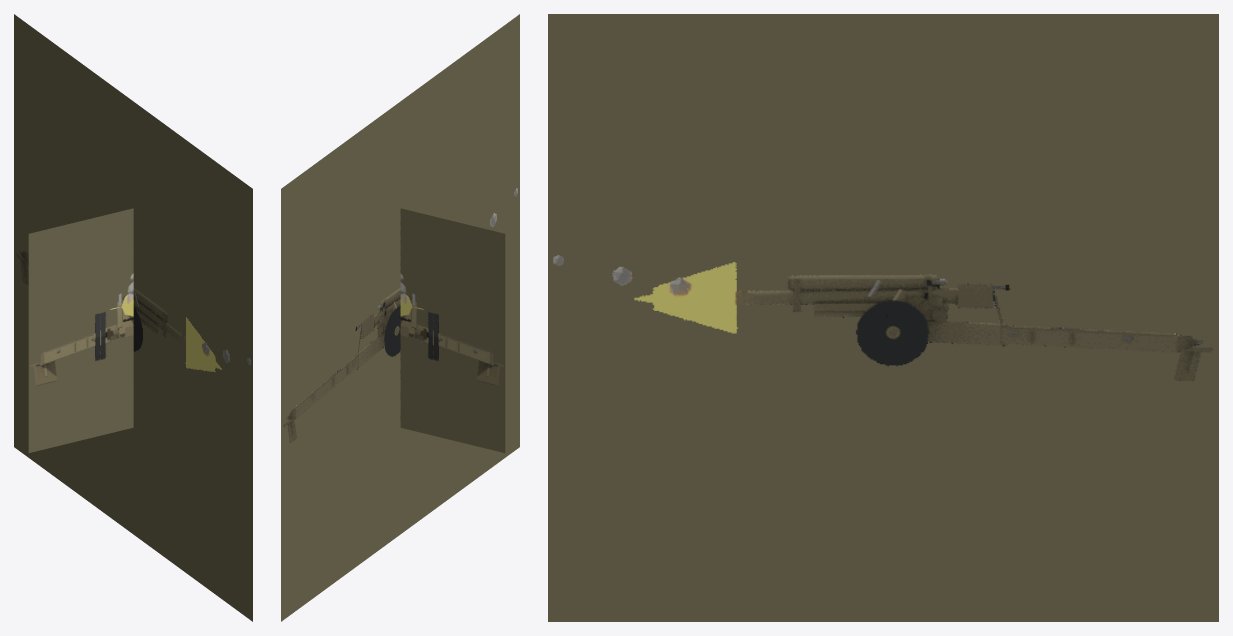
The model's file is sfh18_pjas_web_mobil_bb.glb.
3 renders of one model, left to right at view 1: azimuth 30°, elevation 25°; view 2: azimuth 150°, elevation 25°; view 3: azimuth 270°, elevation 25°, orthographic. The views are drawn at different scales.
Visible parts, largest first — view 1: sfh18_pjas_web_mobil_bb; view 2: sfh18_pjas_web_mobil_bb; view 3: sfh18_pjas_web_mobil_bb.
Boxes of the visible parts, <box> form: sfh18_pjas_web_mobil_bb: <box>14,14,252,621</box>; sfh18_pjas_web_mobil_bb: <box>281,14,519,621</box>; sfh18_pjas_web_mobil_bb: <box>548,14,1218,621</box>.
Size of the model in its own units: 5.86 by 11.57 by 11.57.
1 material, 1 textured.
